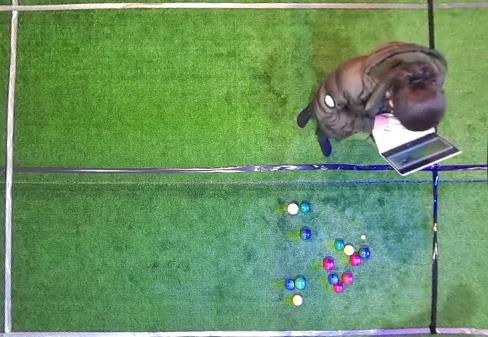blue: (328, 274, 339, 285), (285, 279, 295, 290)
green: (299, 227, 311, 240), (295, 277, 306, 289), (359, 248, 370, 259), (300, 202, 310, 213), (335, 239, 344, 250)
red: (342, 273, 353, 285), (323, 259, 334, 271), (350, 254, 361, 266), (287, 203, 299, 214), (333, 283, 344, 293)
vline: (432, 165, 487, 336), (0, 0, 21, 336), (427, 0, 487, 49)
white: (361, 235, 366, 240)
yellow: (292, 295, 303, 306), (344, 245, 354, 255)
